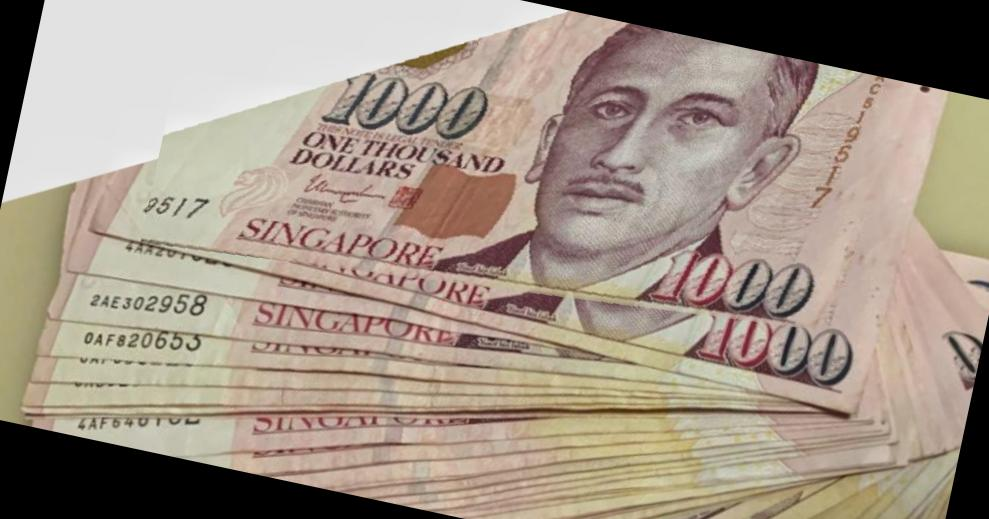1000SingaporeDollar: (140, 0, 933, 402)
